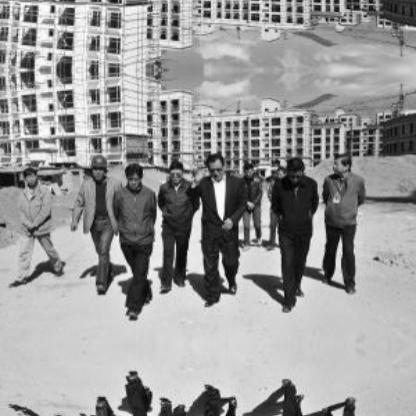helmet: (89, 152, 109, 181)
